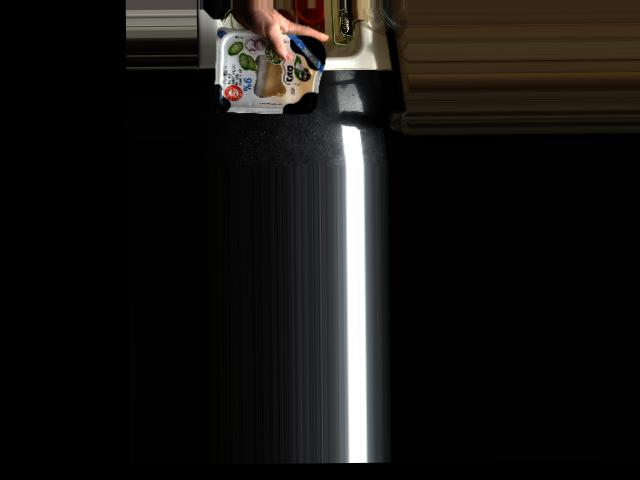cheese: (217, 27, 326, 114)
